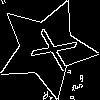X: (21, 23, 78, 72)
